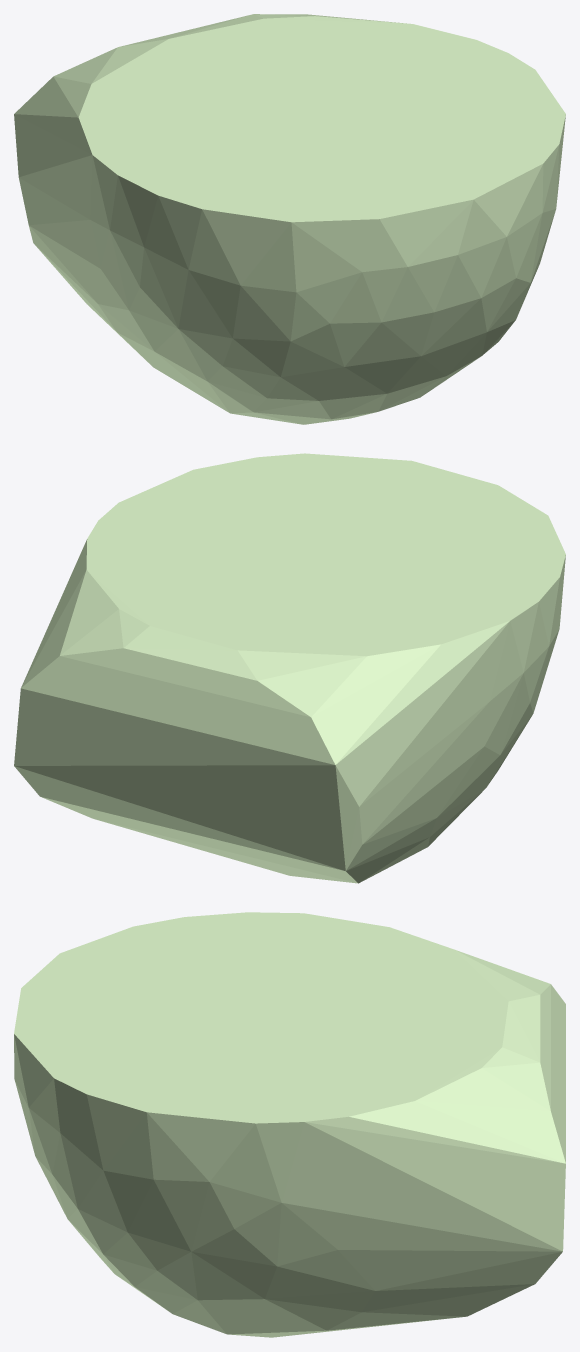
Rendered from iiwa_link2_resp_coll_2.obj.
The picture shows the model from 3 angles, top to bottom: view 1: azimuth 30°, elevation 25°; view 2: azimuth 150°, elevation 25°; view 3: azimuth 270°, elevation 25°; orthographic projection. The views are drawn at different scales.
Visible parts, largest first — view 1: node; view 2: node; view 3: node.
Part boxes in pixels (left/top/right/bottom): node: left=14, top=14, right=565, bottom=424; node: left=14, top=453, right=565, bottom=883; node: left=14, top=912, right=565, bottom=1337.
Bounding box in the file's own units: 0.1712 × 0.1158 × 0.189.
